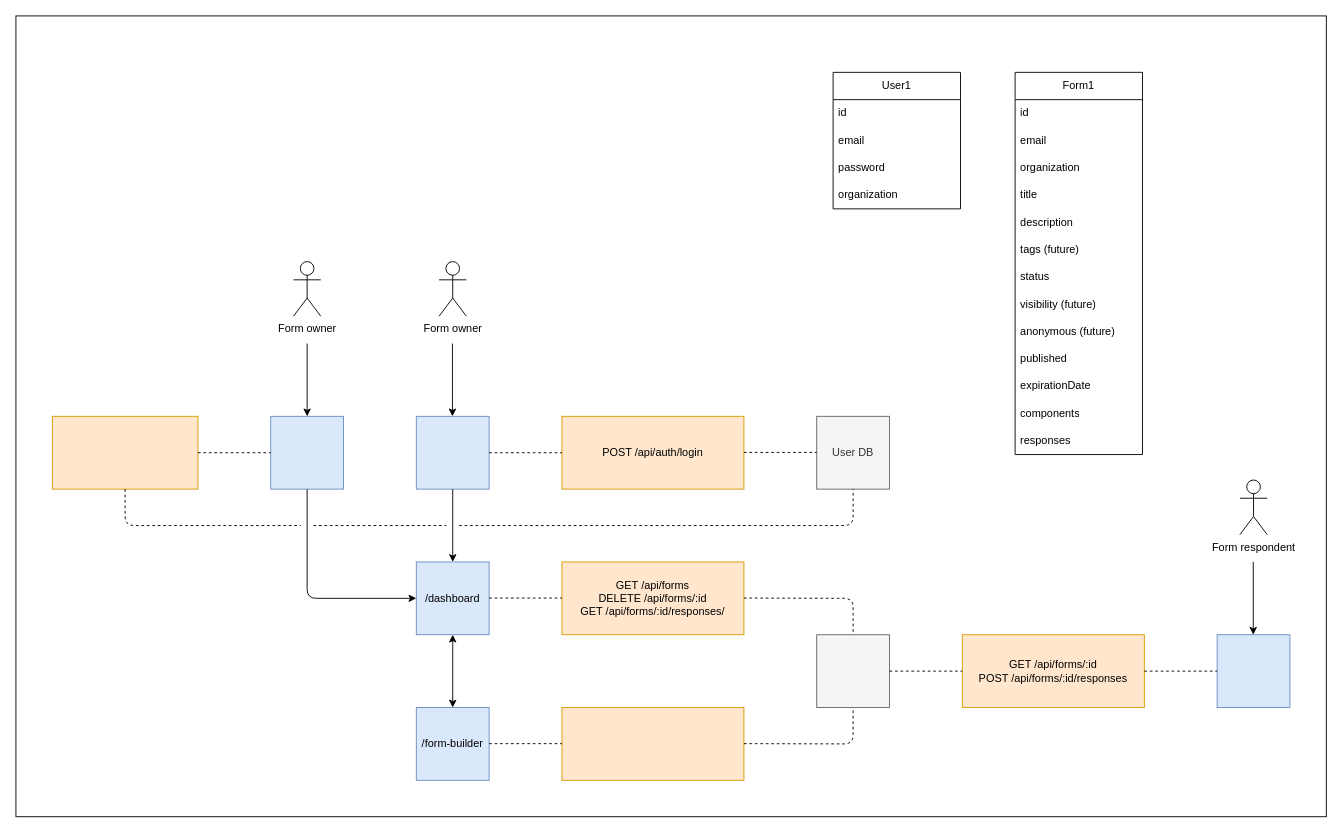
Some shapes in this 1342 by 833 pixel diagram are drawn without their labels. Here are the shapes that lost their labels. From the top down, the centre of each, then its label:
point 124,452: POST /api/auth/signup
point 307,452: /signup
point 452,452: /login
point 853,671: Form DB
point 1253,671: /forms/:id
point 652,743: POST /api/forms
